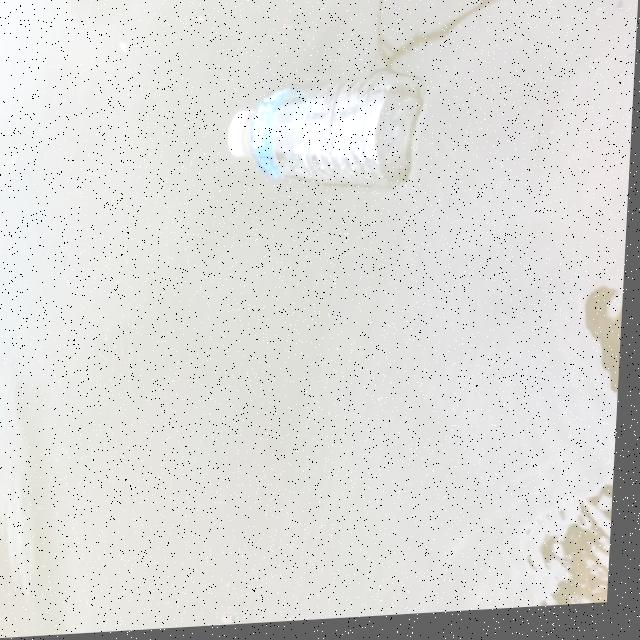waterbottle: (192, 68, 431, 212)
